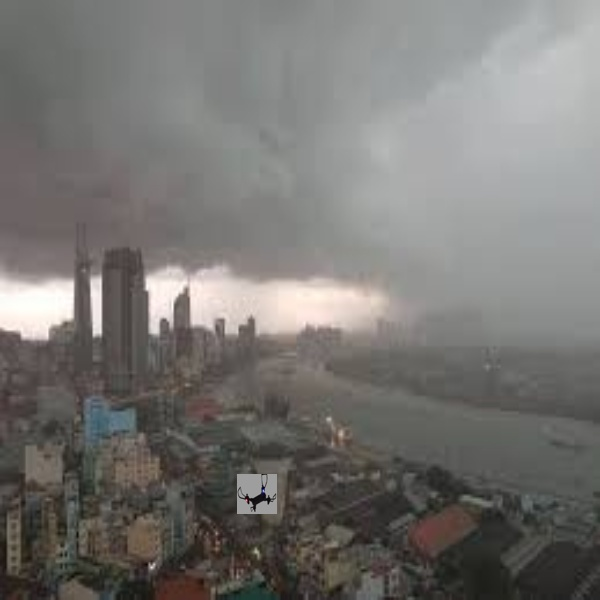drone: (232, 474, 282, 513)
